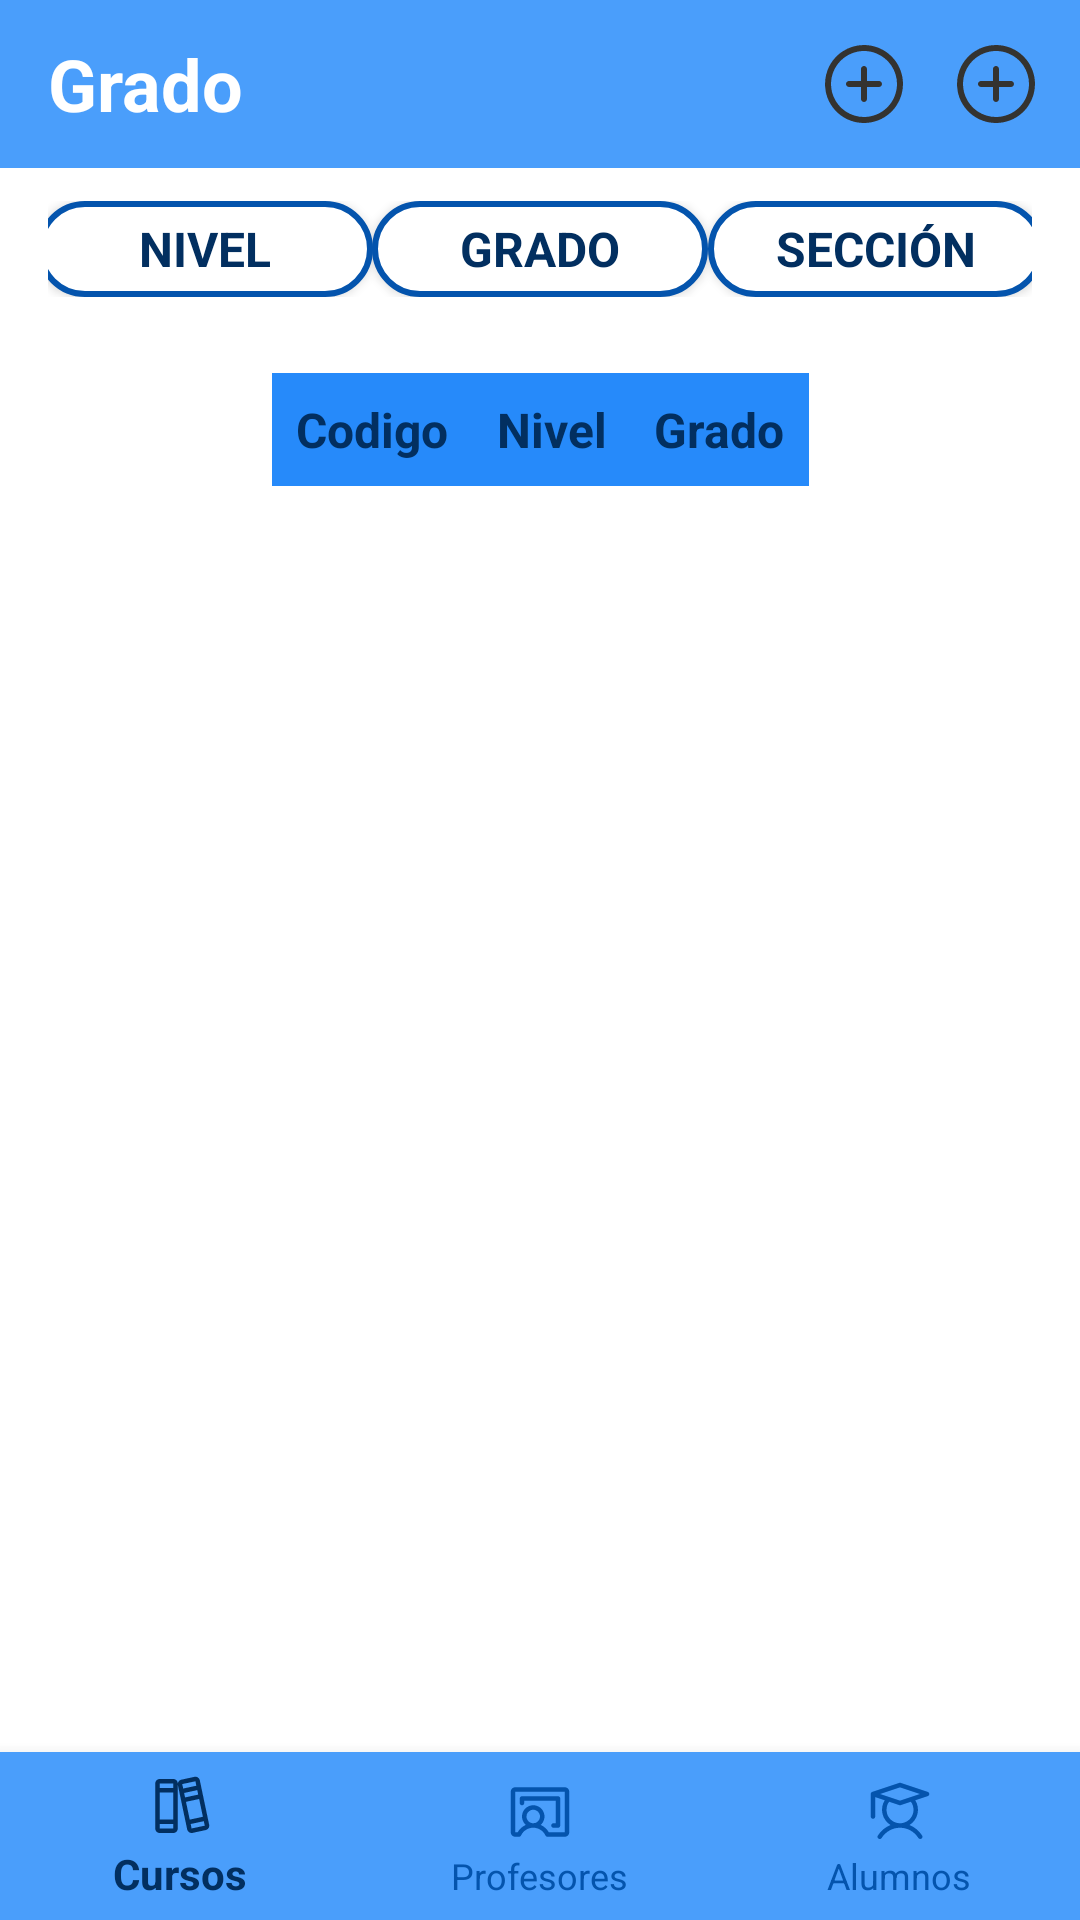

Point at icon controls on the screen. Image size 1080*1920, points as (x=x, y=y).
pluscircle: (x=864, y=84)
